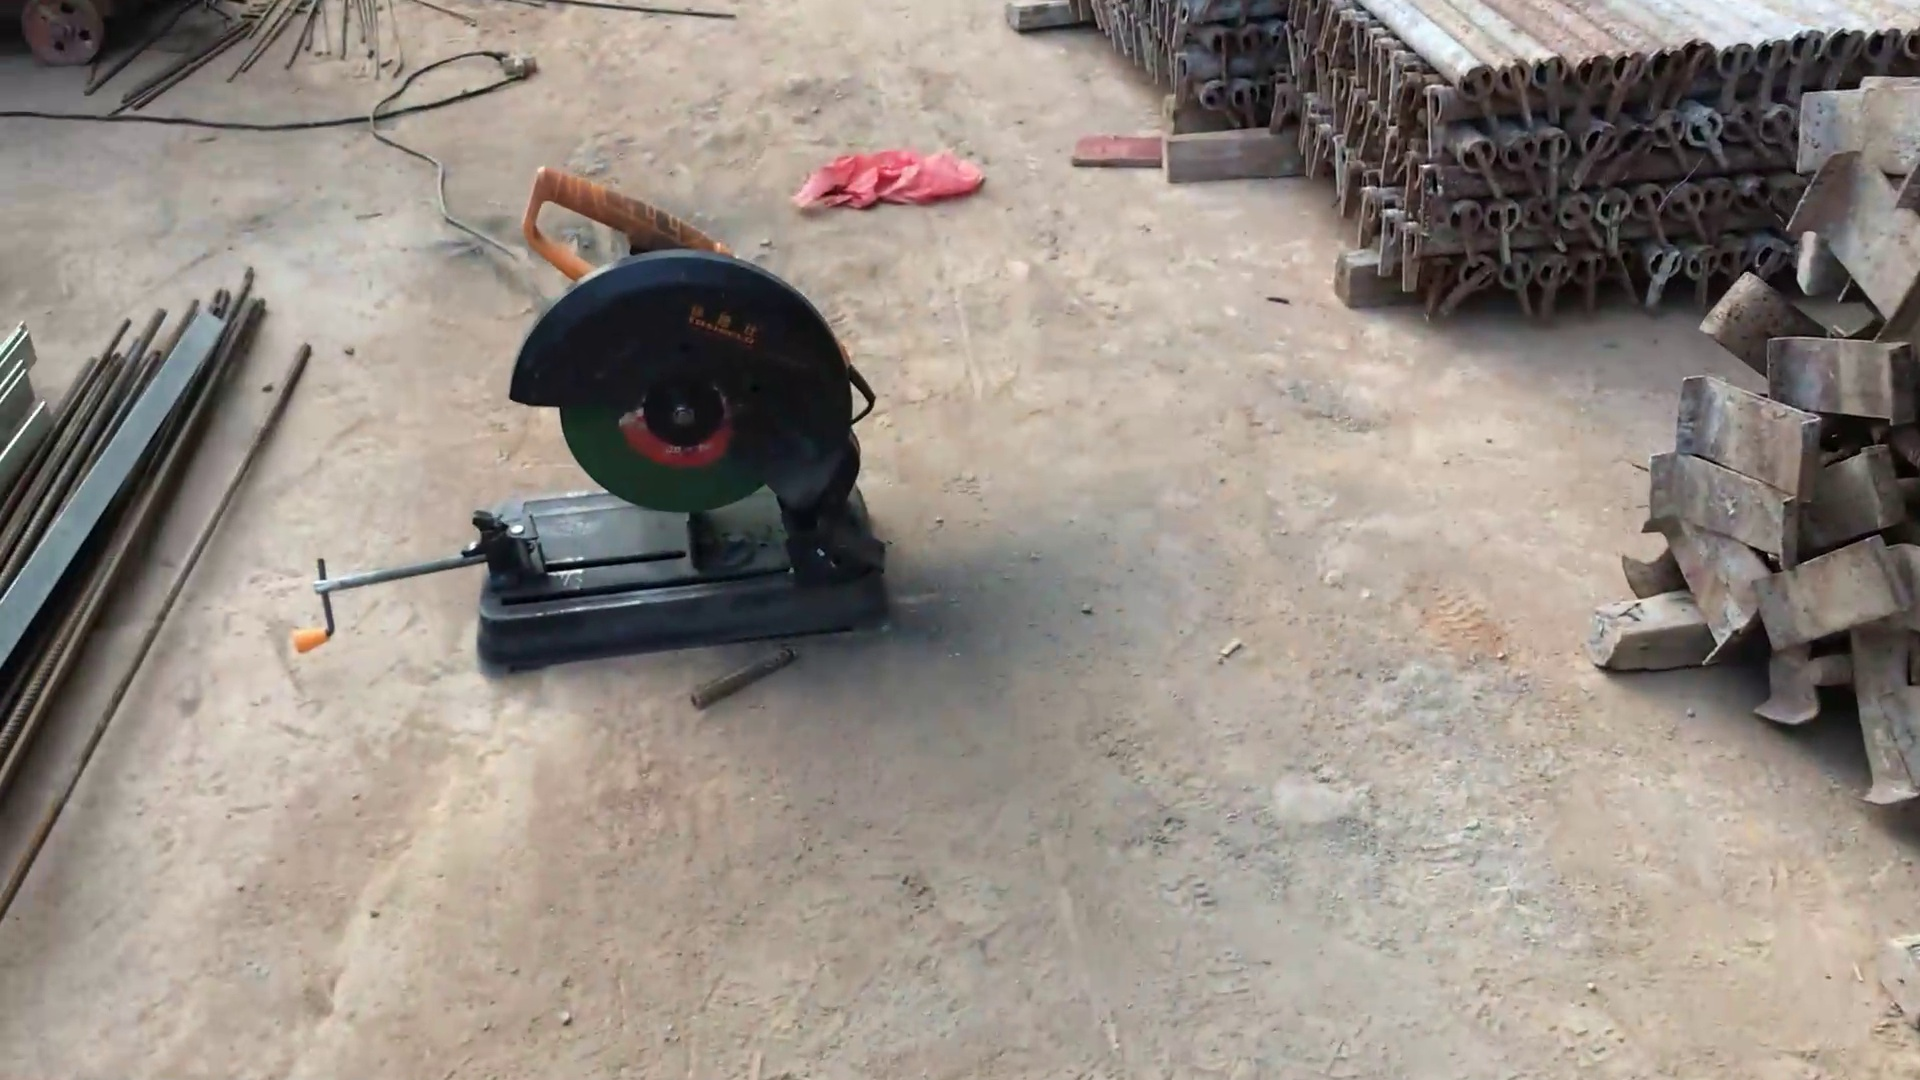cutter: (381, 150, 913, 686)
scaffold: (1253, 1, 1917, 305)
